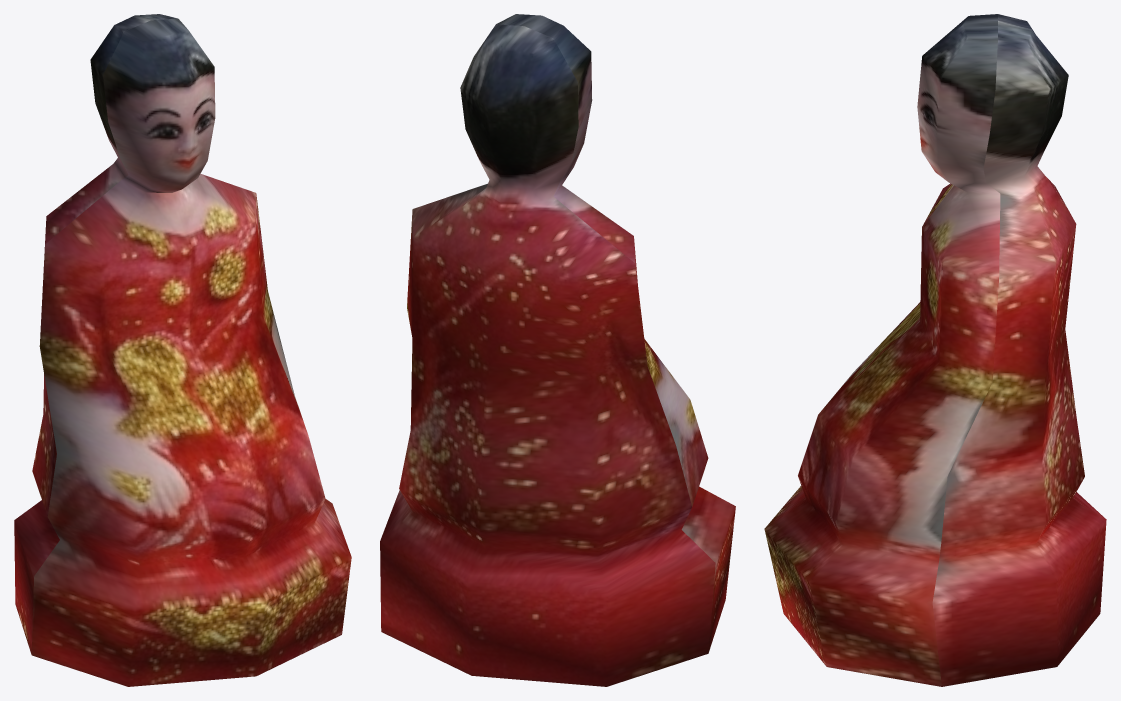
File: BoriwanDoll.fbx
3 renders of one model, left to right at view 1: azimuth 30°, elevation 25°; view 2: azimuth 150°, elevation 25°; view 3: azimuth 270°, elevation 25°, orthographic. The views are drawn at different scales.
Visible parts, largest first — view 1: BoriwanDoll; view 2: BoriwanDoll; view 3: BoriwanDoll.
Part boxes in pixels (x1=…): BoriwanDoll: x1=14, y1=14, x2=351, y2=686; BoriwanDoll: x1=380, y1=14, x2=735, y2=686; BoriwanDoll: x1=764, y1=14, x2=1106, y2=686.
Bounding box in the file's own units: 3.29 × 6.1 × 3.2.
Materials: 1 (1 with a texture image).
